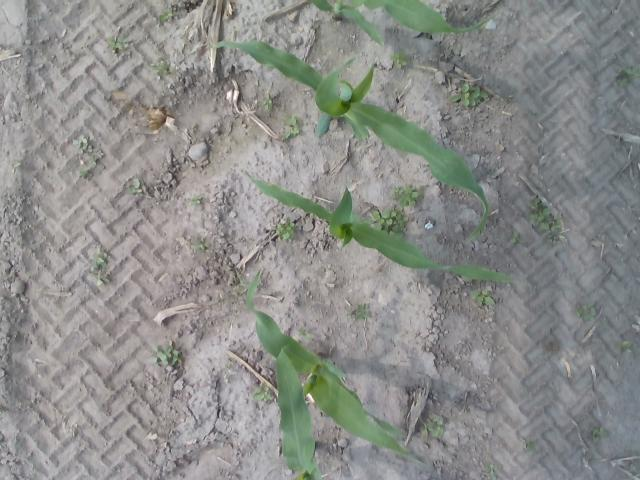Maize: (213, 37, 490, 242), (246, 268, 418, 462), (243, 168, 522, 286), (264, 0, 491, 51), (274, 347, 318, 479)
Weeds: (374, 208, 408, 228), (148, 344, 179, 364), (528, 209, 552, 228), (450, 86, 471, 106), (474, 288, 494, 308), (86, 145, 104, 167), (398, 188, 420, 206), (284, 116, 298, 138), (276, 222, 295, 238), (576, 303, 595, 319), (428, 418, 444, 436), (90, 267, 106, 285), (254, 386, 274, 400), (354, 303, 370, 320), (473, 86, 488, 103), (158, 60, 172, 77), (128, 180, 142, 196), (482, 464, 498, 478), (107, 40, 125, 52), (159, 11, 172, 27), (392, 54, 406, 68), (77, 168, 93, 180), (626, 65, 640, 78), (592, 428, 607, 440), (510, 231, 522, 246), (262, 93, 272, 110), (74, 136, 88, 147), (616, 341, 630, 352), (192, 242, 207, 252), (617, 76, 628, 88), (96, 254, 107, 265), (300, 327, 312, 337), (524, 440, 534, 450), (10, 160, 20, 170), (189, 198, 204, 204), (549, 234, 558, 243), (533, 198, 542, 206), (550, 221, 556, 231), (192, 123, 198, 132)
